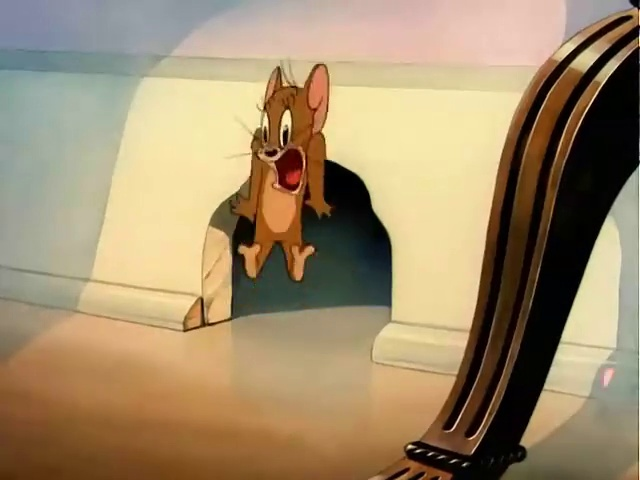jerry: (202, 70, 389, 295)
